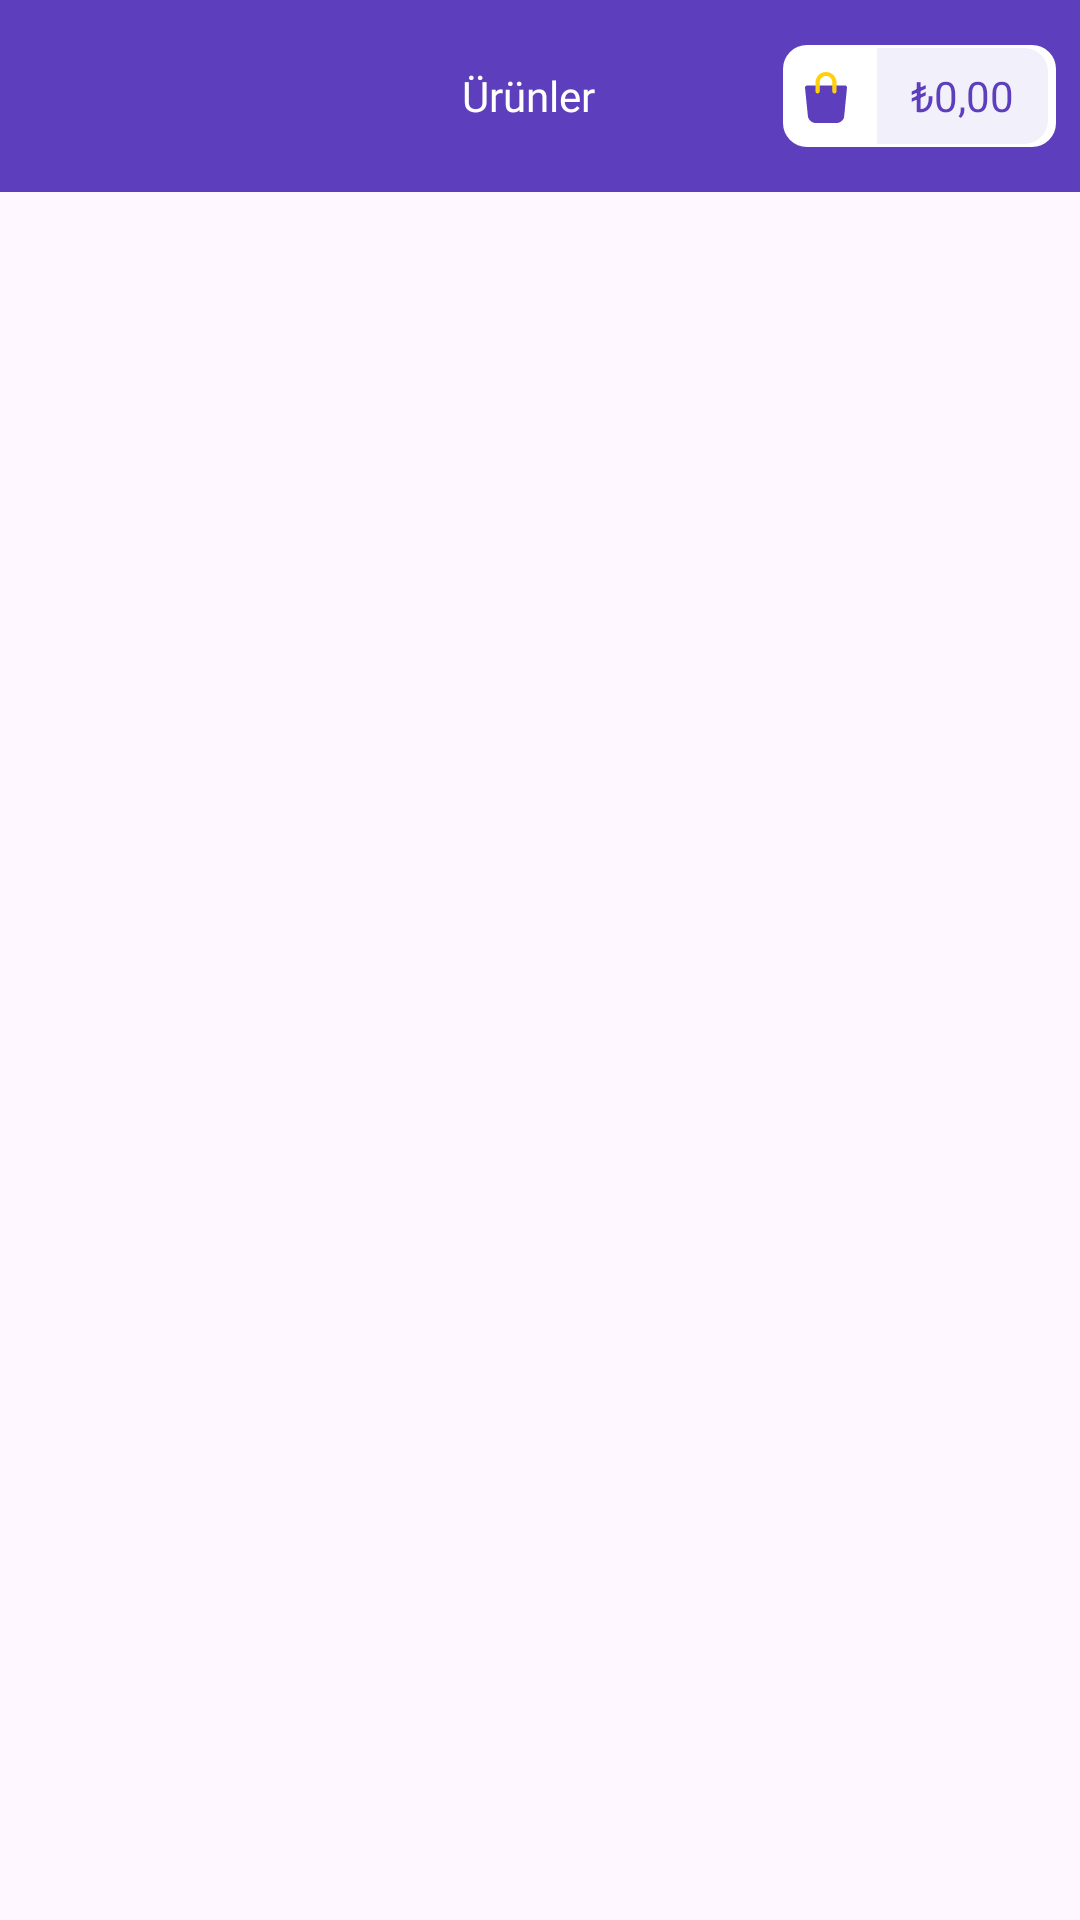

Icons on this 1080*1920 Android screen, each with its box as (left=x1, top=y1, right=x2, bottom=y2):
cart: (left=805, top=72, right=847, bottom=123)
